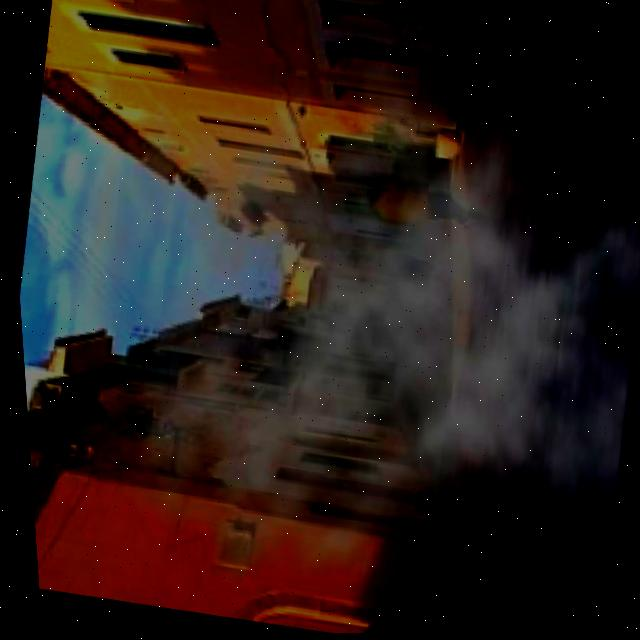Smoke: (24, 0, 640, 632)
